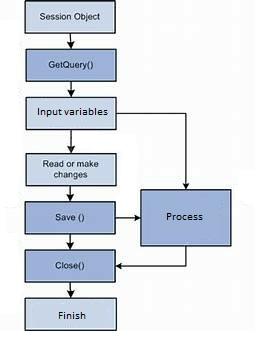arrow: (115, 110, 191, 192), (114, 244, 187, 269), (64, 127, 76, 154), (113, 214, 142, 223), (63, 182, 74, 200), (64, 281, 75, 297), (65, 31, 74, 49), (65, 231, 74, 249), (65, 79, 75, 95)
process: (136, 187, 235, 248), (20, 198, 119, 237), (22, 94, 118, 134), (23, 151, 119, 188), (23, 295, 119, 332), (23, 247, 118, 284), (22, 46, 118, 82), (23, 0, 116, 35)
text: (40, 159, 101, 182), (35, 105, 109, 117), (37, 10, 101, 22), (46, 58, 93, 72), (51, 210, 86, 223), (54, 259, 87, 270), (163, 210, 202, 219), (55, 310, 87, 319)
